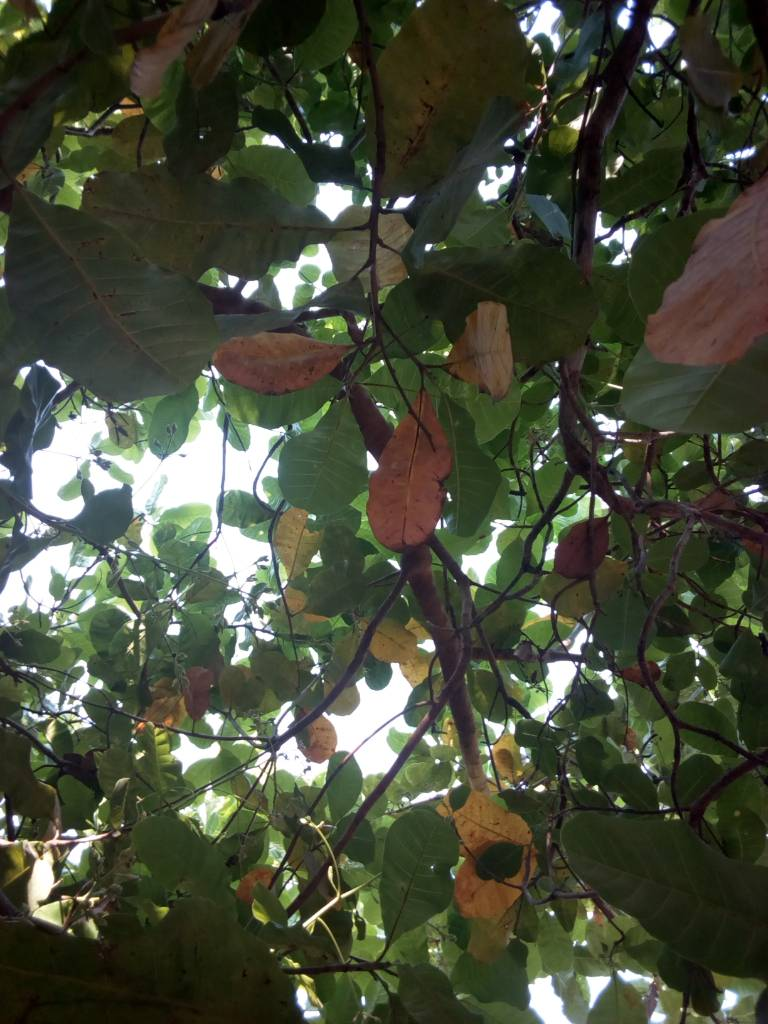Anthracnose: (10, 199, 210, 405), (79, 172, 291, 280), (363, 386, 450, 557), (202, 336, 360, 396)
